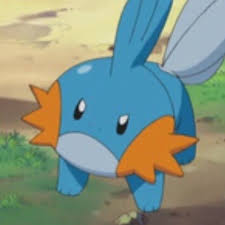mudkip: (21, 1, 225, 214)
